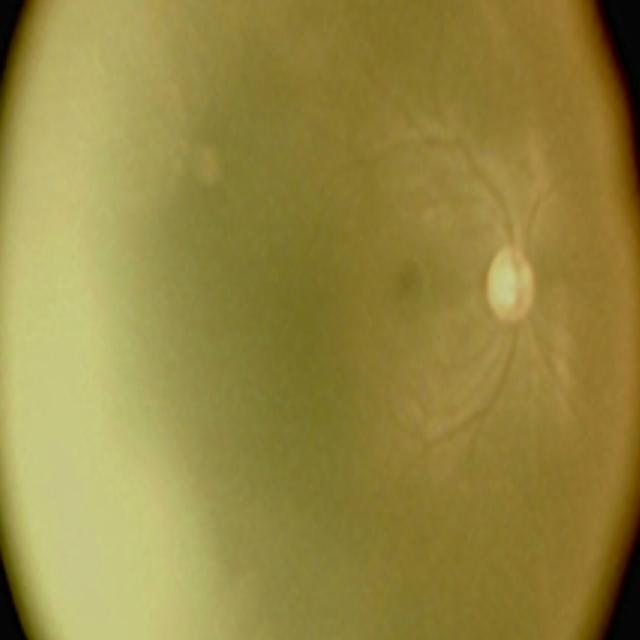optic-nerve: (464, 183, 560, 397)
